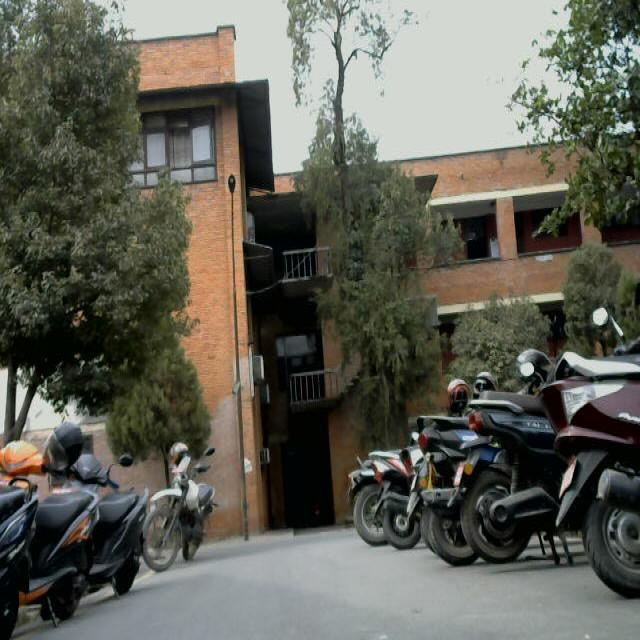Bike: (321, 346, 640, 596), (1, 436, 219, 637)
Pole: (221, 168, 255, 570)
Road: (139, 508, 514, 640)
trees: (3, 8, 187, 428), (286, 0, 445, 421)
